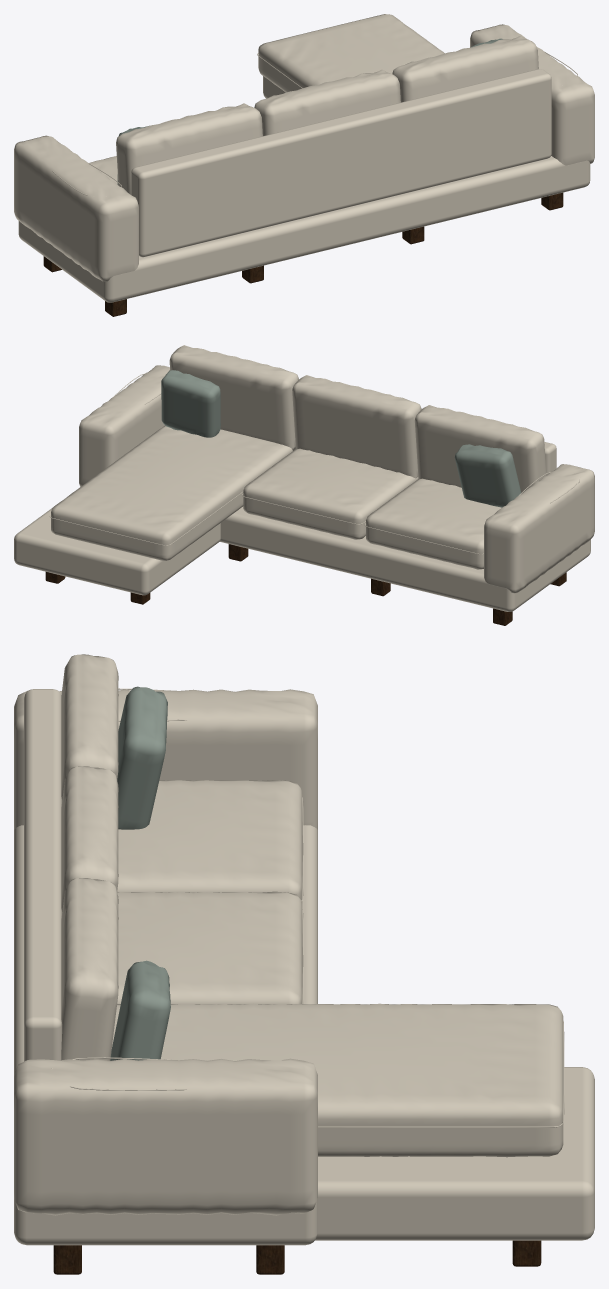
File: studio-l-sofa-right.glb
The picture shows the model from 3 angles, top to bottom: view 1: azimuth 30°, elevation 25°; view 2: azimuth 150°, elevation 25°; view 3: azimuth 270°, elevation 25°; orthographic projection. The views are drawn at different scales.
Parts seen in each view (by area): view 1: linen_surfaces, wood_surfaces; view 2: linen_surfaces, sage_surfaces, wood_surfaces; view 3: linen_surfaces, sage_surfaces, wood_surfaces.
Boxes of the visible parts, <box> form: linen_surfaces: <box>14,14,594,302</box>; wood_surfaces: <box>43,192,563,316</box>; linen_surfaces: <box>14,345,594,611</box>; sage_surfaces: <box>161,370,521,507</box>; wood_surfaces: <box>45,544,566,625</box>; linen_surfaces: <box>14,654,594,1245</box>; sage_surfaces: <box>110,686,170,1060</box>; wood_surfaces: <box>53,1240,541,1274</box>.
Bounding box in the file's own units: 3 × 0.9804 × 1.84.
Materials: 3 (1 with a texture image).
